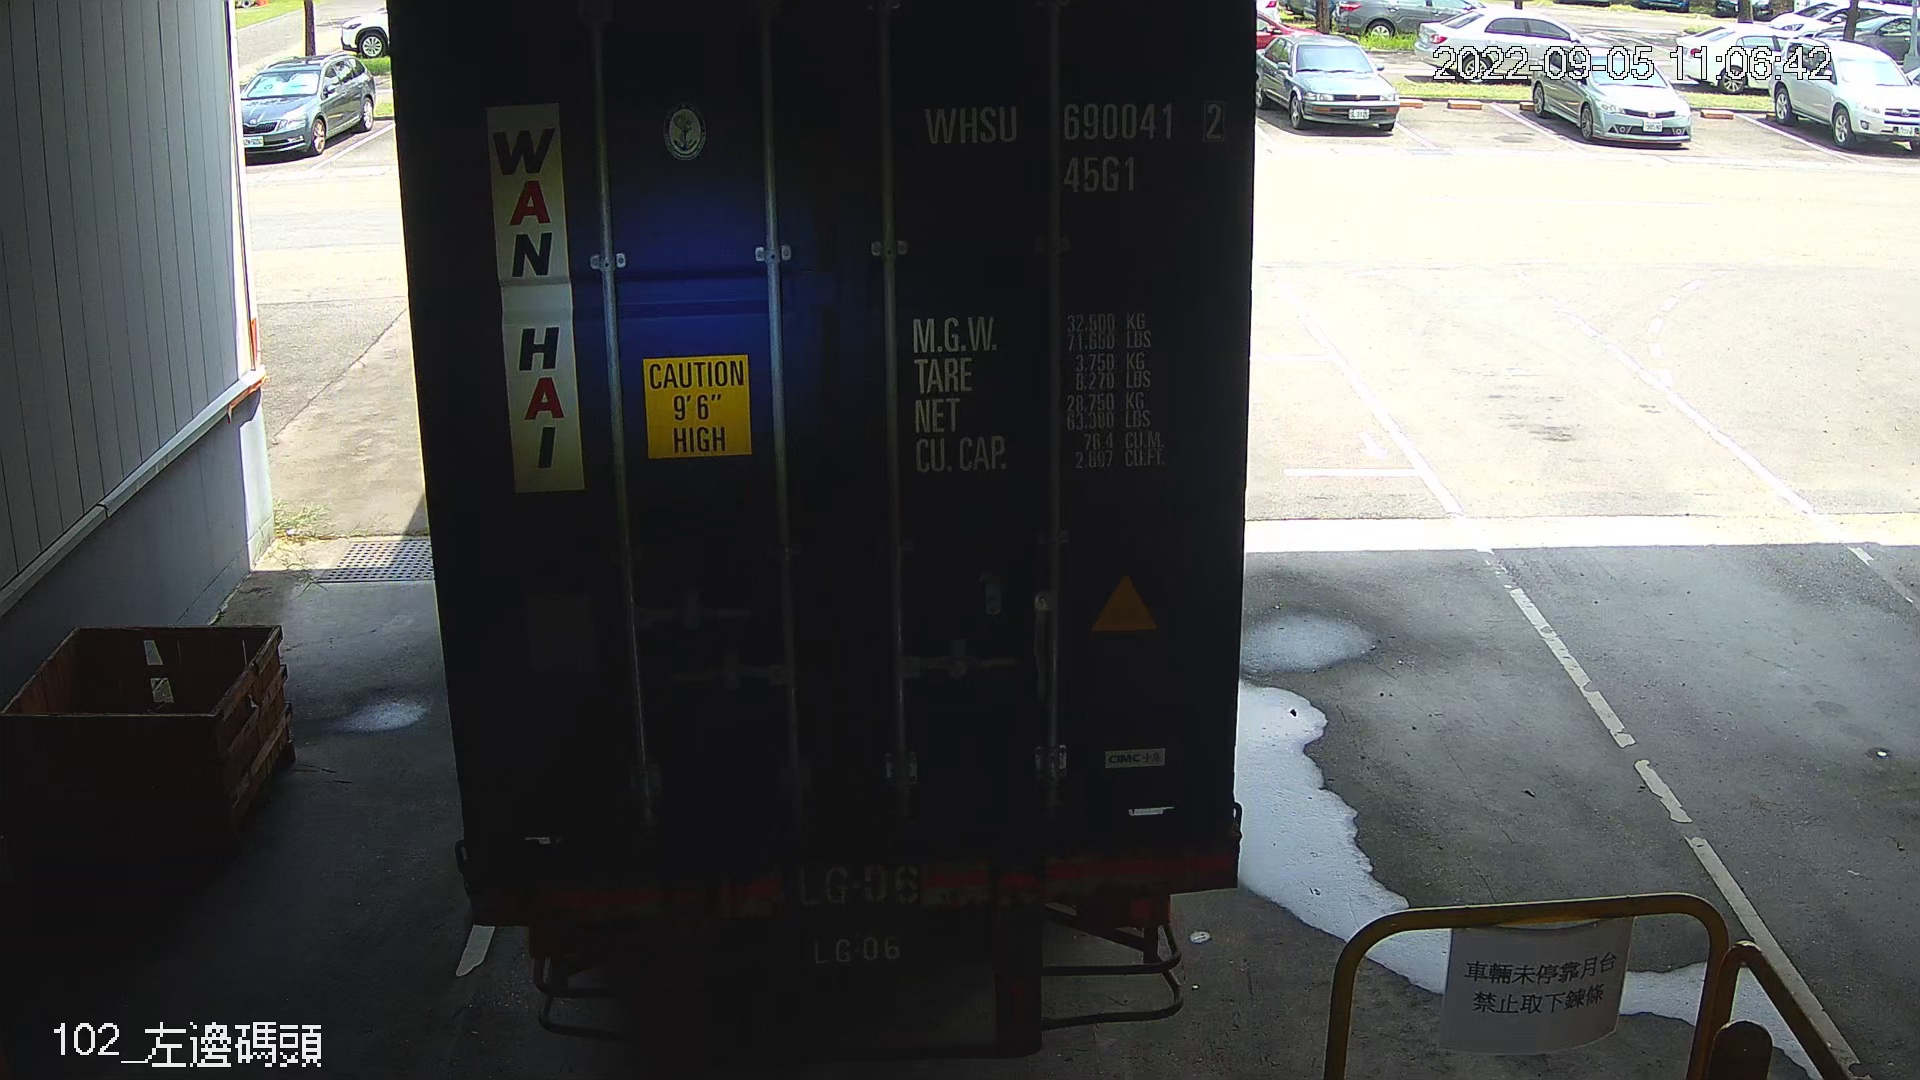container: (914, 86, 1238, 211)
